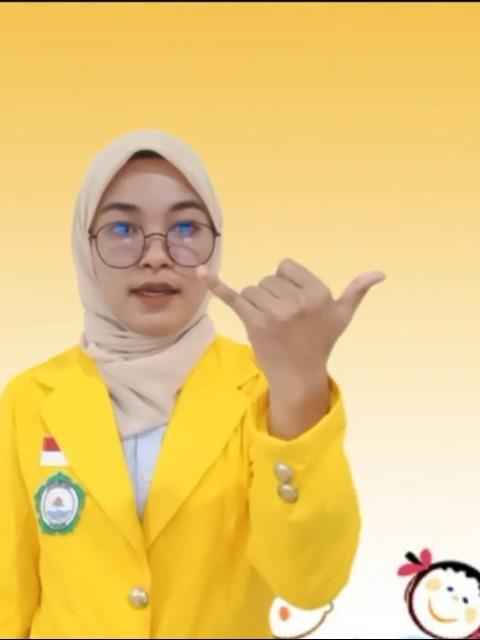Y: (192, 253, 392, 369)
